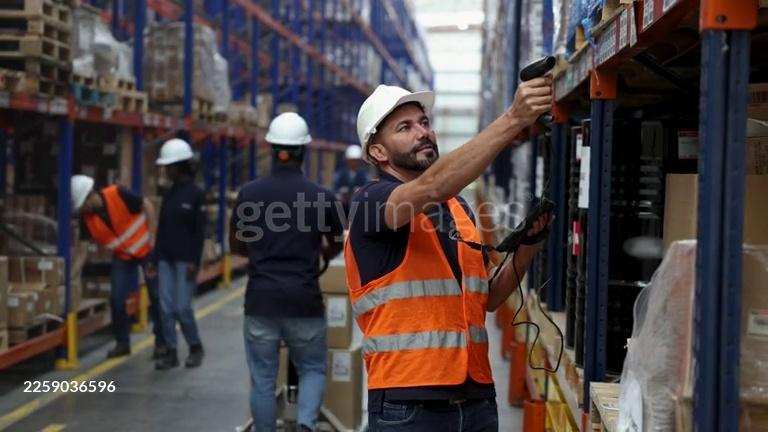helmet: (357, 84, 436, 161), (267, 111, 313, 146), (154, 139, 201, 165), (70, 174, 93, 214)
person: (341, 79, 558, 432), (224, 111, 345, 432), (66, 174, 156, 359), (141, 137, 209, 371)
